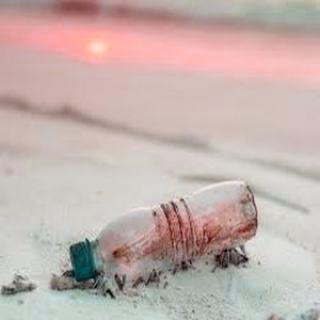Plastic: (69, 179, 262, 286)
